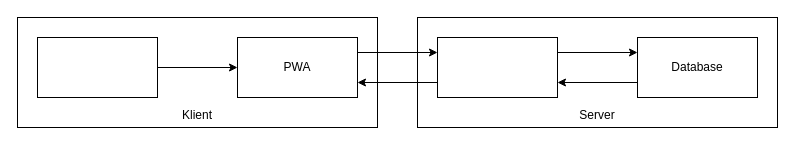
Image size: 795x145. Some labels were removed from this diagram. Here are the shapes that lost their labels. From the top down, the centre of each, then its label:
point (97, 67): GPS-komponent
point (497, 67): API
